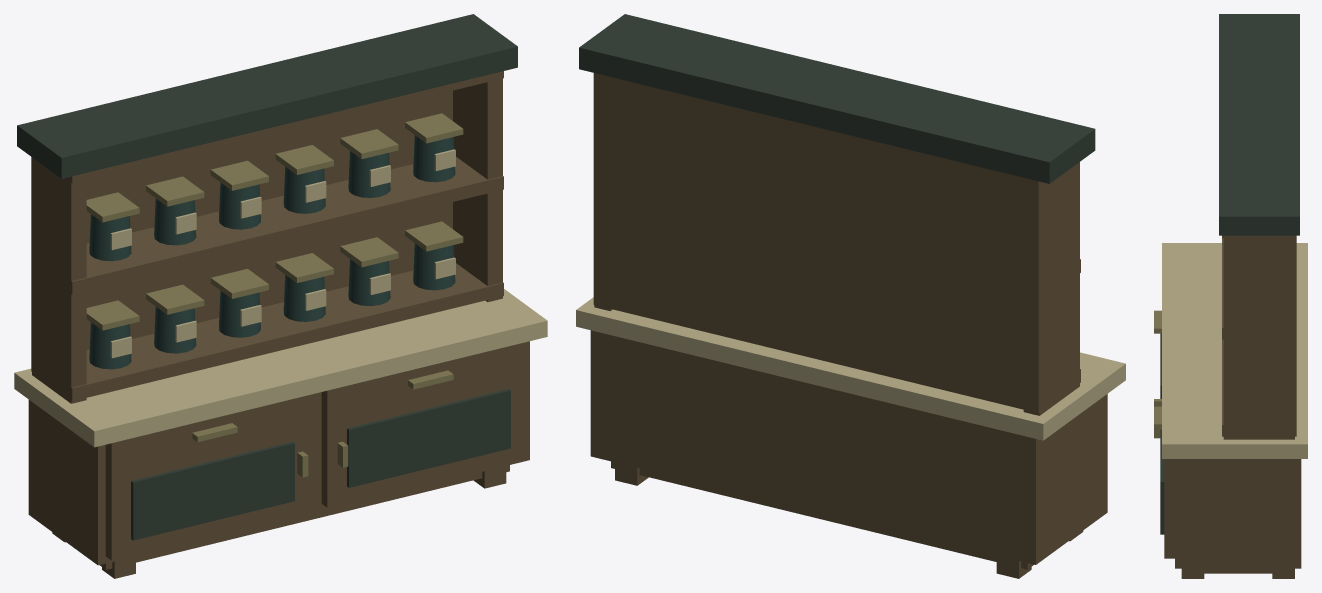
The model's file is preserves-kit.glb.
3 views of the same model, side by side, from view 1: azimuth 30°, elevation 25°; view 2: azimuth 150°, elevation 25°; view 3: azimuth 270°, elevation 25° (orthographic). The views are drawn at different scales.
Parts seen in each view (by area): view 1: shelf-board (×3), shelf-cornice, countertop, shelf-back, raised-door-panel (×2), cupboard-door (×2), shelf-upright (×2), preserves-jar (×12), jar-lid (×12), cabinet-carcass, drawer-front (×2), plinth; view 2: shelf-back, cabinet-carcass, shelf-cornice, countertop, shelf-upright, plinth, shelf-board; view 3: shelf-cornice, countertop, cabinet-carcass, shelf-upright, shelf-board (×3), shelf-back, cupboard-door, plinth, raised-door-panel.
Boxes of the visible parts, bbox=[...] form: shelf-board (×3): bbox=[31, 71, 503, 401]; shelf-cornice: bbox=[17, 14, 517, 178]; countertop: bbox=[14, 289, 547, 447]; shelf-back: bbox=[31, 90, 452, 361]; raised-door-panel (×2): bbox=[131, 389, 510, 540]; cupboard-door (×2): bbox=[105, 367, 527, 560]; shelf-upright (×2): bbox=[32, 78, 502, 403]; preserves-jar (×12): bbox=[89, 135, 455, 369]; jar-lid (×12): bbox=[86, 113, 463, 330]; cabinet-carcass: bbox=[28, 341, 529, 565]; drawer-front (×2): bbox=[105, 341, 527, 468]; plinth: bbox=[100, 465, 509, 569]; shelf-back: bbox=[593, 73, 1044, 409]; cabinet-carcass: bbox=[590, 330, 1107, 564]; shelf-cornice: bbox=[579, 14, 1095, 183]; countertop: bbox=[576, 297, 1125, 440]; shelf-upright: bbox=[1023, 162, 1079, 415]; plinth: bbox=[611, 461, 1033, 569]; shelf-board: bbox=[593, 301, 1080, 413]; shelf-cornice: bbox=[1219, 14, 1299, 235]; countertop: bbox=[1162, 243, 1307, 458]; cabinet-carcass: bbox=[1175, 459, 1301, 568]; shelf-upright: bbox=[1223, 238, 1294, 439]; shelf-board (×3): bbox=[1222, 235, 1296, 436]; shelf-back: bbox=[1287, 235, 1296, 433]; cupboard-door: bbox=[1164, 475, 1174, 558]; plinth: bbox=[1185, 568, 1290, 573]; raised-door-panel: bbox=[1160, 429, 1164, 534].
Size of the model in its own units: 2.96 by 2.57 by 0.9499.
